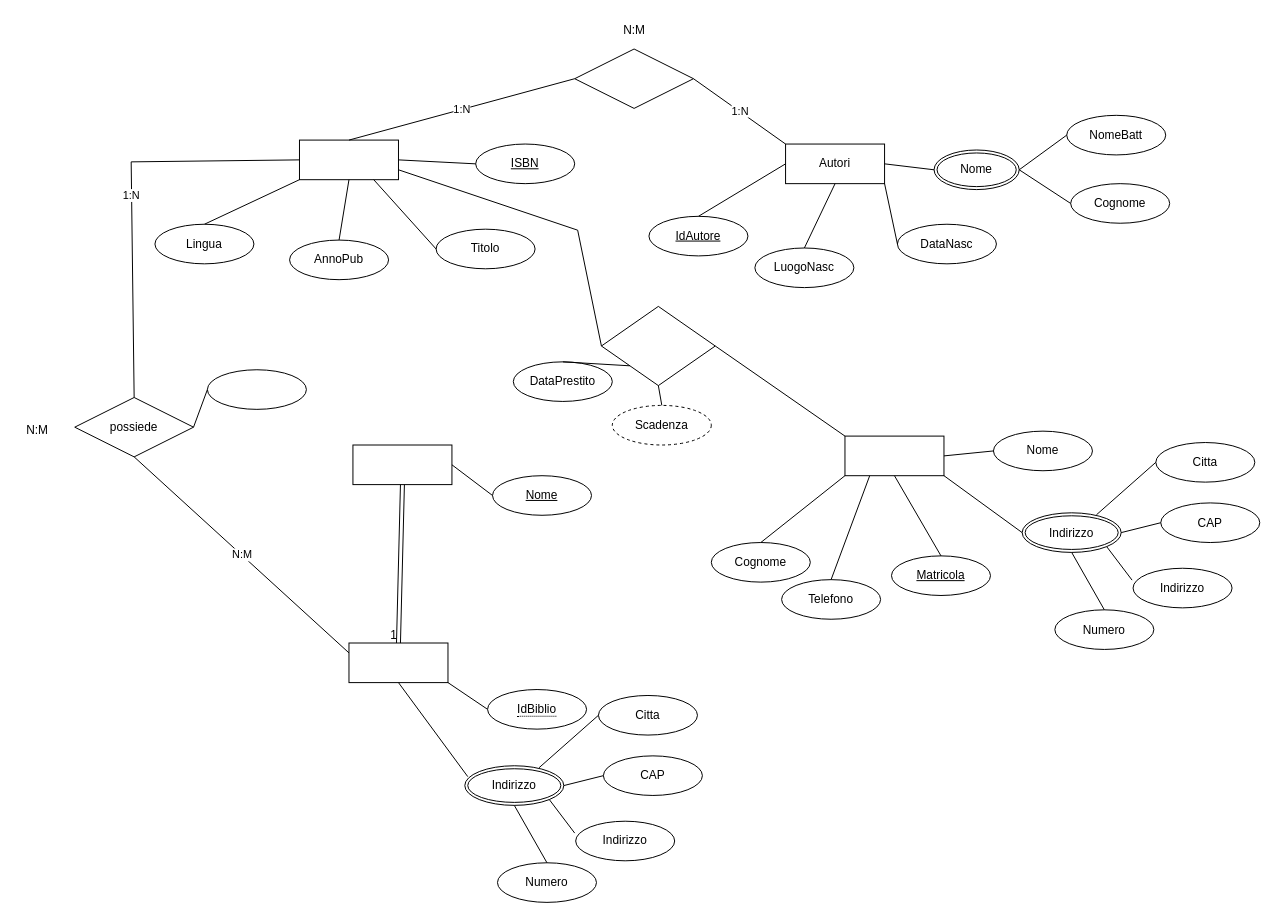
Some shapes in this 1277 by 920 pixel diagram are drawn without their labels. Here are the shapes that lost their labels. From the top down, the box of each, then its label:
(574, 48, 693, 108): scritto
(298, 139, 398, 180): Libri
(600, 305, 715, 386): Prende in prestito
(206, 369, 306, 409): N_Copie
(352, 444, 452, 485): Dipartimento
(844, 435, 944, 476): Utenti
(348, 642, 448, 683): Biblioteche
